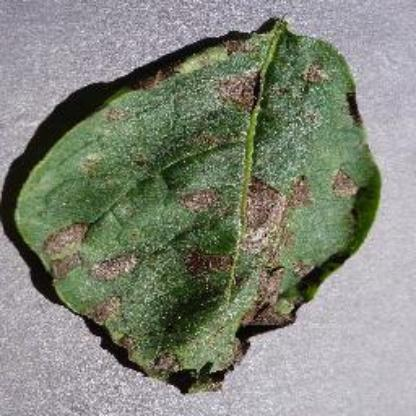Early-Blight: (9, 12, 389, 398)
